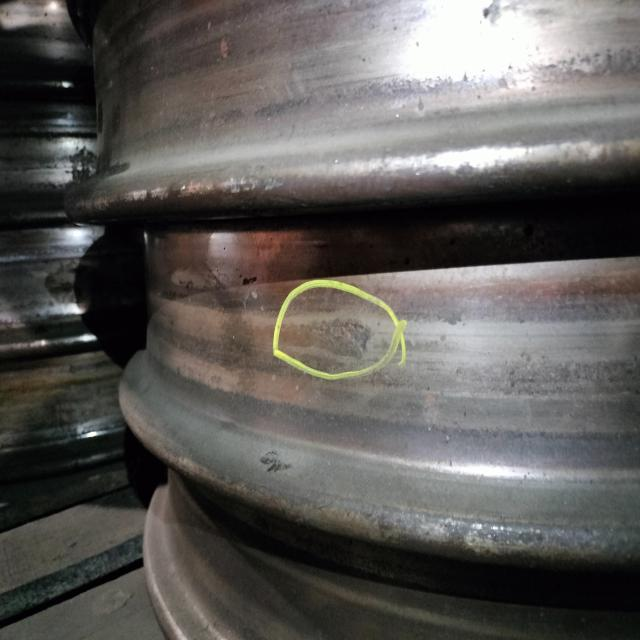Rollerpile: (291, 317, 378, 364)
